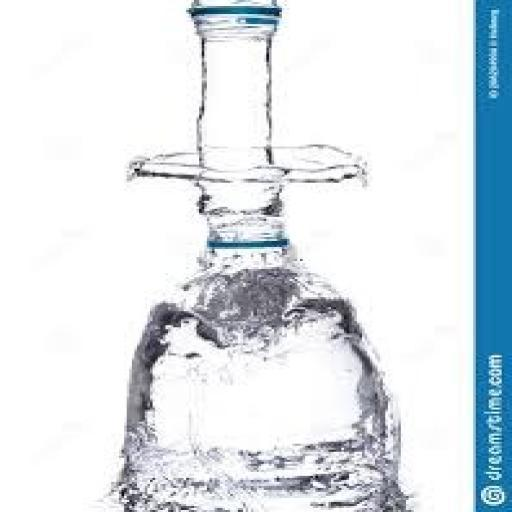bottle: (108, 208, 412, 484)
